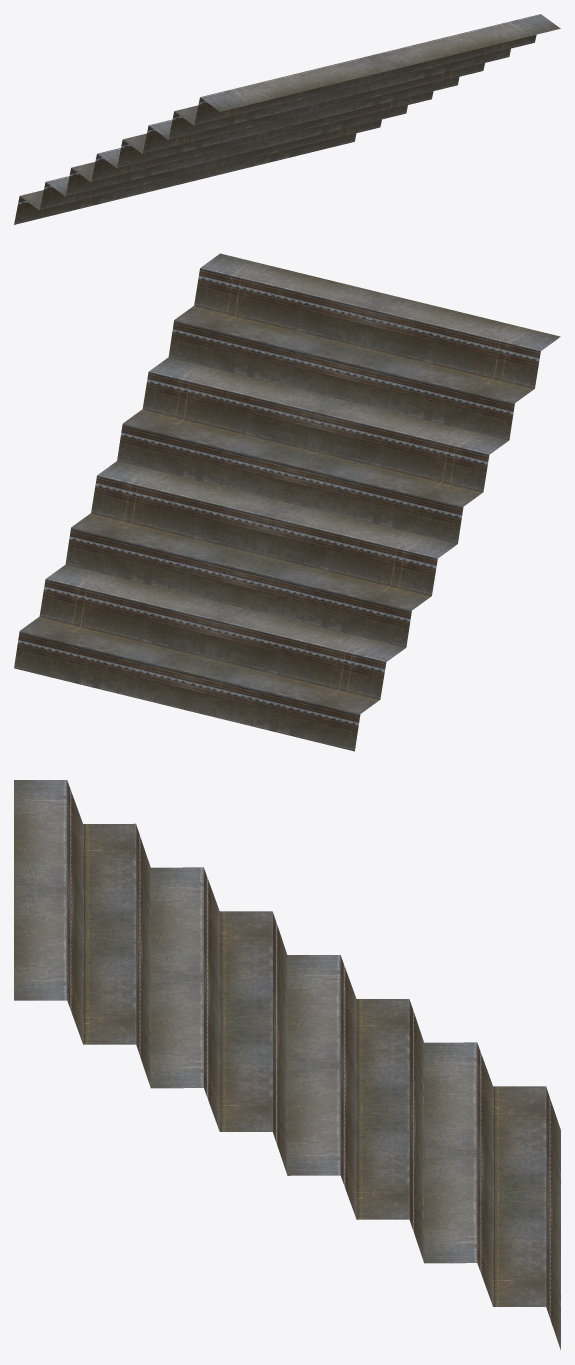
File: dcfx2_louti_04.FBX
The picture shows the model from 3 angles, top to bottom: view 1: azimuth 30°, elevation 25°; view 2: azimuth 150°, elevation 25°; view 3: azimuth 270°, elevation 25°; orthographic projection. The views are drawn at different scales.
Visible parts, largest first — view 1: dcfx2_louti_04; view 2: dcfx2_louti_04; view 3: dcfx2_louti_04.
Part boxes in pixels (x1,y1,x2,y2): dcfx2_louti_04: (14, 14, 560, 224); dcfx2_louti_04: (14, 253, 560, 751); dcfx2_louti_04: (14, 780, 560, 1349).
Bounding box in the file's own units: 591 × 437 × 619.
